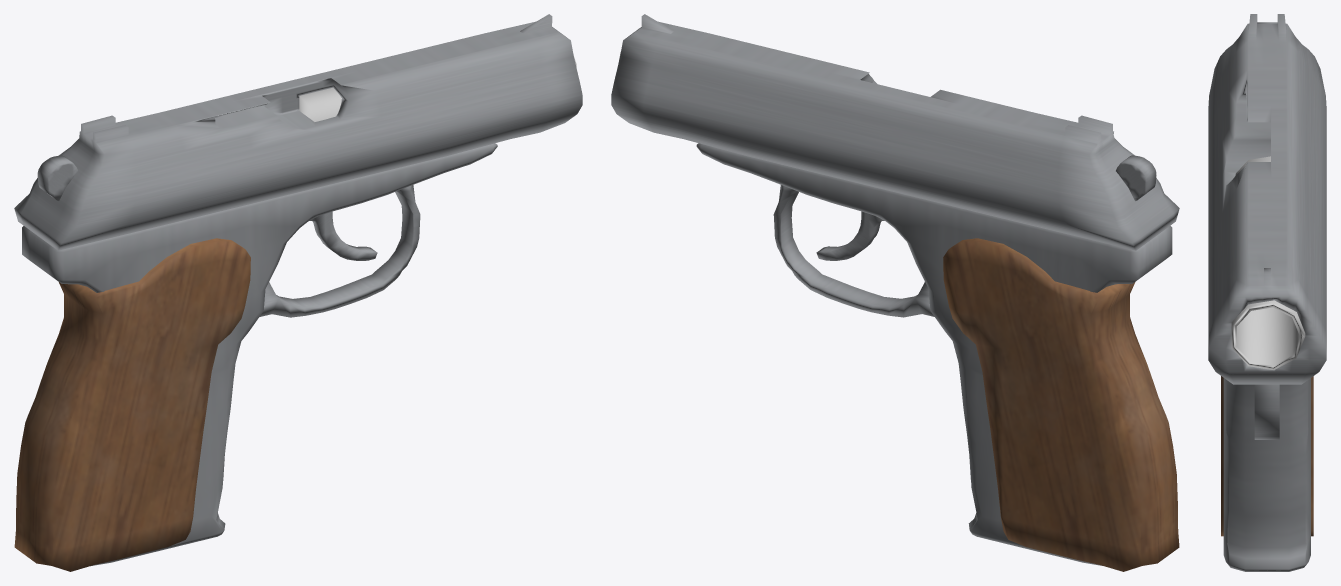
The model's file is pistol_PM.fbx.
3 views of the same model, side by side, from view 1: azimuth 30°, elevation 25°; view 2: azimuth 150°, elevation 25°; view 3: azimuth 270°, elevation 25° (orthographic). The views are drawn at different scales.
Visible parts, largest first — view 1: top, handle, bottom, skoba, switch, Plane, barrel; view 2: top, handle, bottom, skoba, switch, Plane; view 3: top, bottom, barrel, skoba, handle.
Boxes of the visible parts, box(x1,y1,x2,y2) form: top: box(14, 14, 582, 250); handle: box(14, 238, 250, 571); bottom: box(22, 143, 497, 566); skoba: box(259, 185, 420, 317); switch: box(310, 211, 377, 260); Plane: box(37, 155, 78, 201); barrel: box(299, 57, 576, 121); top: box(611, 14, 1179, 250); handle: box(943, 238, 1179, 571); bottom: box(696, 143, 1172, 565); skoba: box(773, 185, 934, 317); switch: box(816, 211, 884, 260); Plane: box(1116, 155, 1156, 201); top: box(1208, 14, 1326, 384); bottom: box(1223, 378, 1310, 571); barrel: box(1231, 156, 1305, 369); skoba: box(1254, 384, 1279, 439); handle: box(1221, 376, 1313, 536).
Size of the model in its own units: 494 by 373 by 81.64.
